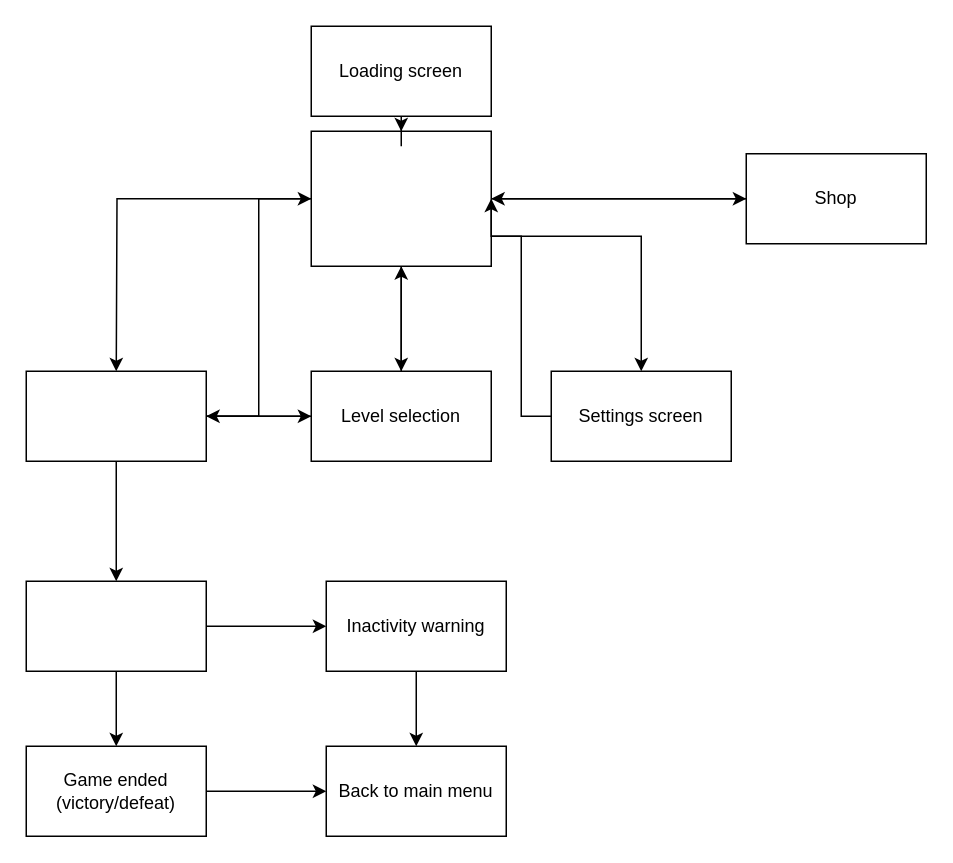
The diagram is 953 pixels wide and 863 high, and some of its shapes have lost their labels. The shapes that lost their labels are listed below. From the top down, each one's centre as x and y in pixels, then its label:
the point at 400,198: Main menu
the point at 115,415: Cards selection
the point at 115,625: In-game UI
